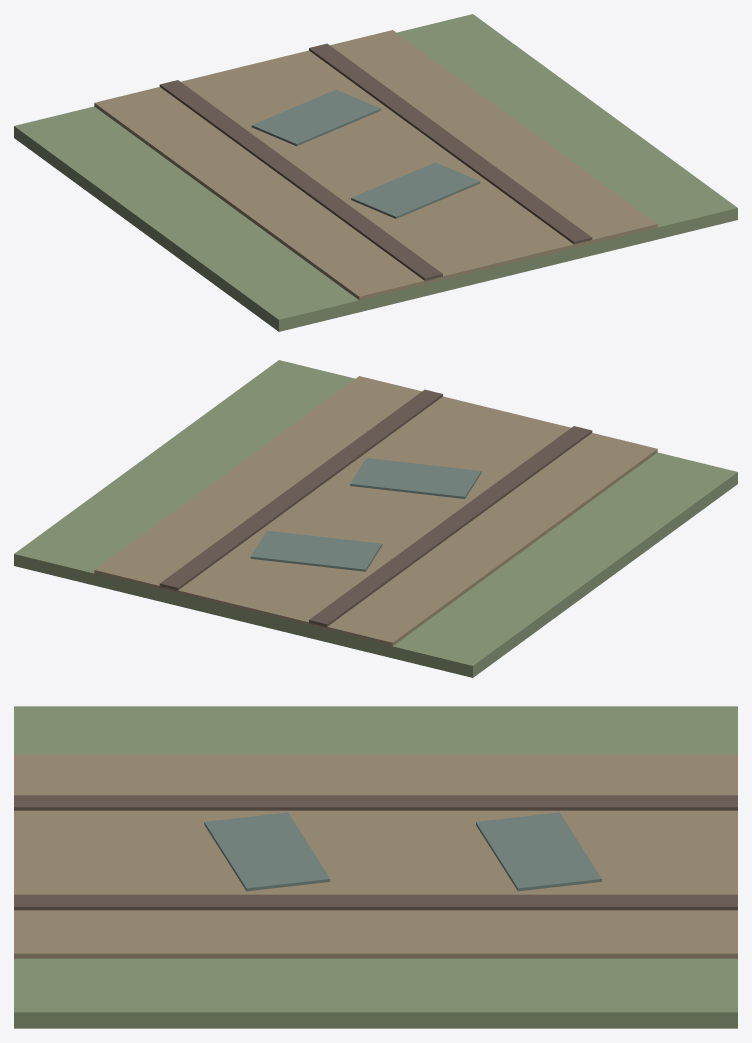
File: road_muddy_ruts.glb
3 views of the same model, one above another, from view 1: azimuth 30°, elevation 25°; view 2: azimuth 150°, elevation 25°; view 3: azimuth 270°, elevation 25° (orthographic). The views are drawn at different scales.
Parts seen in each view (by area): view 1: road_muddy_ruts; view 2: road_muddy_ruts; view 3: road_muddy_ruts.
Boxes of the visible parts, x1,y1,x2,y2 form: road_muddy_ruts: (14, 14, 737, 331); road_muddy_ruts: (14, 360, 737, 677); road_muddy_ruts: (14, 706, 737, 1028).
Size of the model in its own units: 4 by 0.154 by 4.
